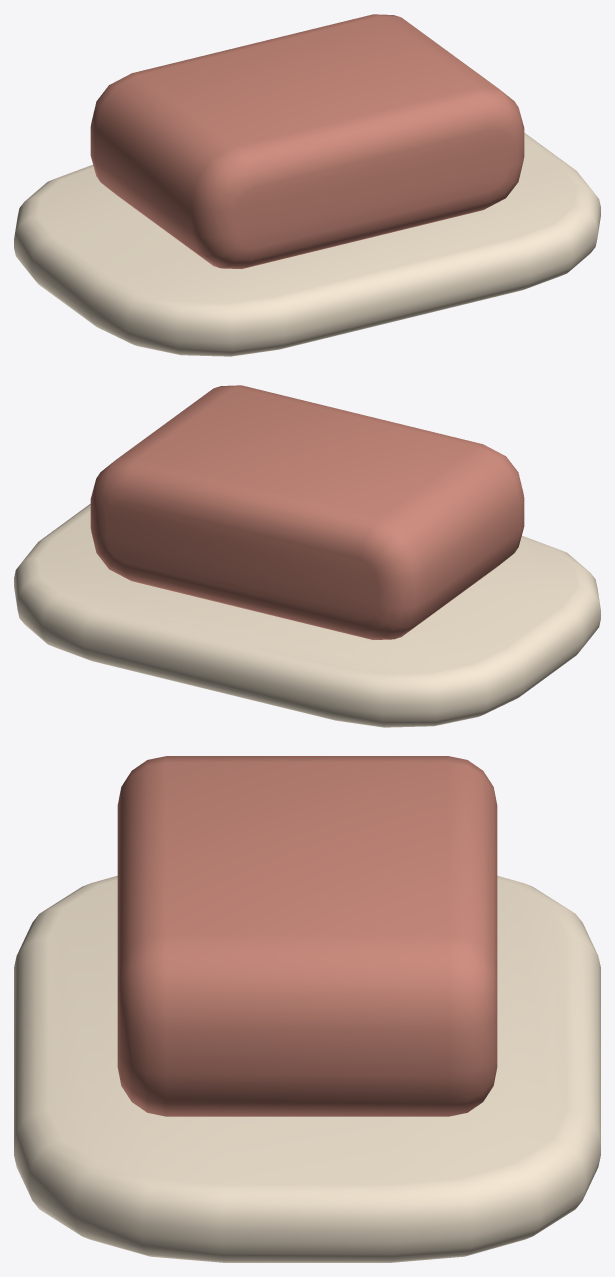
File: soap.glb
3 renders of one model, top to bottom at view 1: azimuth 30°, elevation 25°; view 2: azimuth 150°, elevation 25°; view 3: azimuth 270°, elevation 25°, orthographic. The views are drawn at different scales.
Visible parts, largest first — view 1: Bar, Dish; view 2: Bar, Dish; view 3: Bar, Dish.
Boxes of the visible parts, left/top/right/bottom form: Bar: left=90, top=14, right=524, bottom=268; Dish: left=14, top=133, right=600, bottom=356; Bar: left=90, top=385, right=524, bottom=639; Dish: left=14, top=504, right=600, bottom=727; Bar: left=117, top=756, right=497, bottom=1116; Dish: left=14, top=875, right=600, bottom=1262.
Size of the model in its own units: 0.12 by 0.04 by 0.085.
